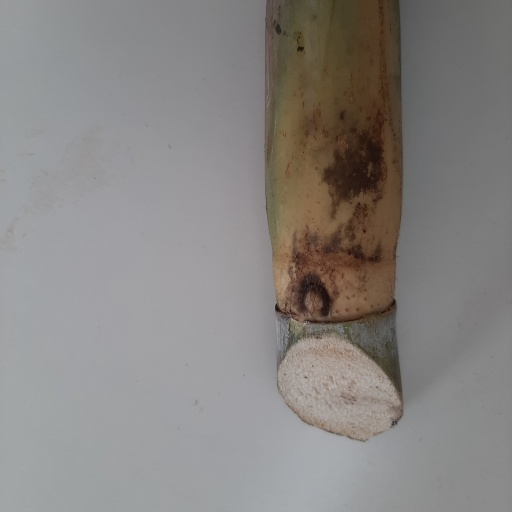Bud: (298, 281, 329, 320)
